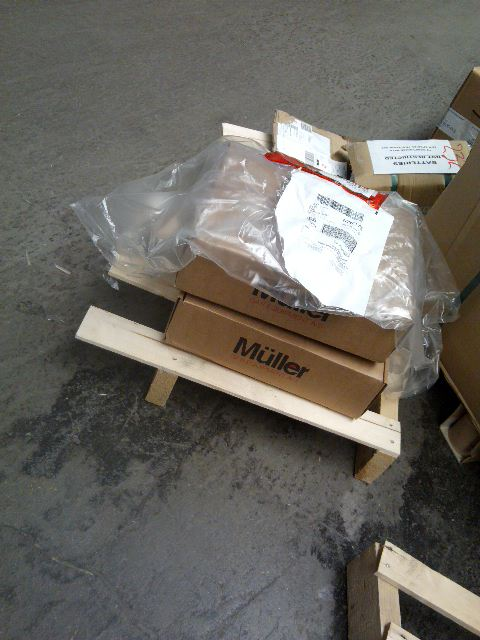label: (271, 168, 395, 315), (276, 119, 347, 179), (365, 135, 463, 176)
package: (176, 145, 420, 361), (162, 296, 390, 419), (351, 136, 474, 207), (269, 107, 350, 182)
